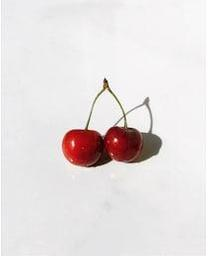cherry: (61, 129, 103, 167), (105, 126, 141, 163)
